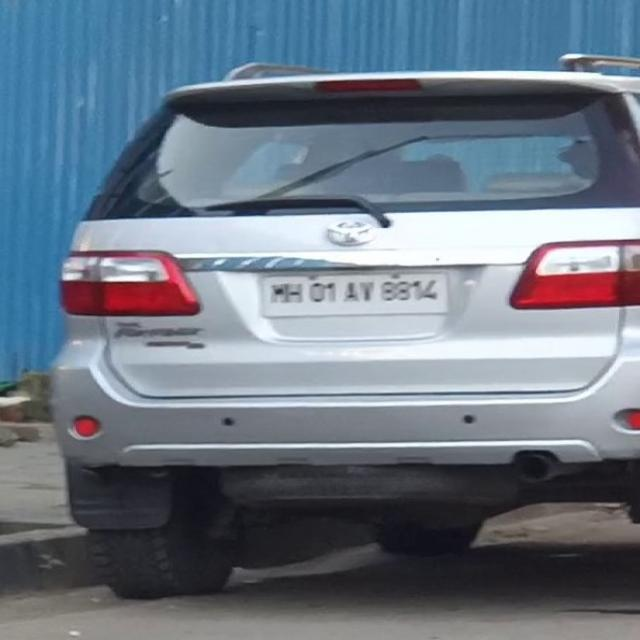license-plate: (259, 272, 447, 313)
